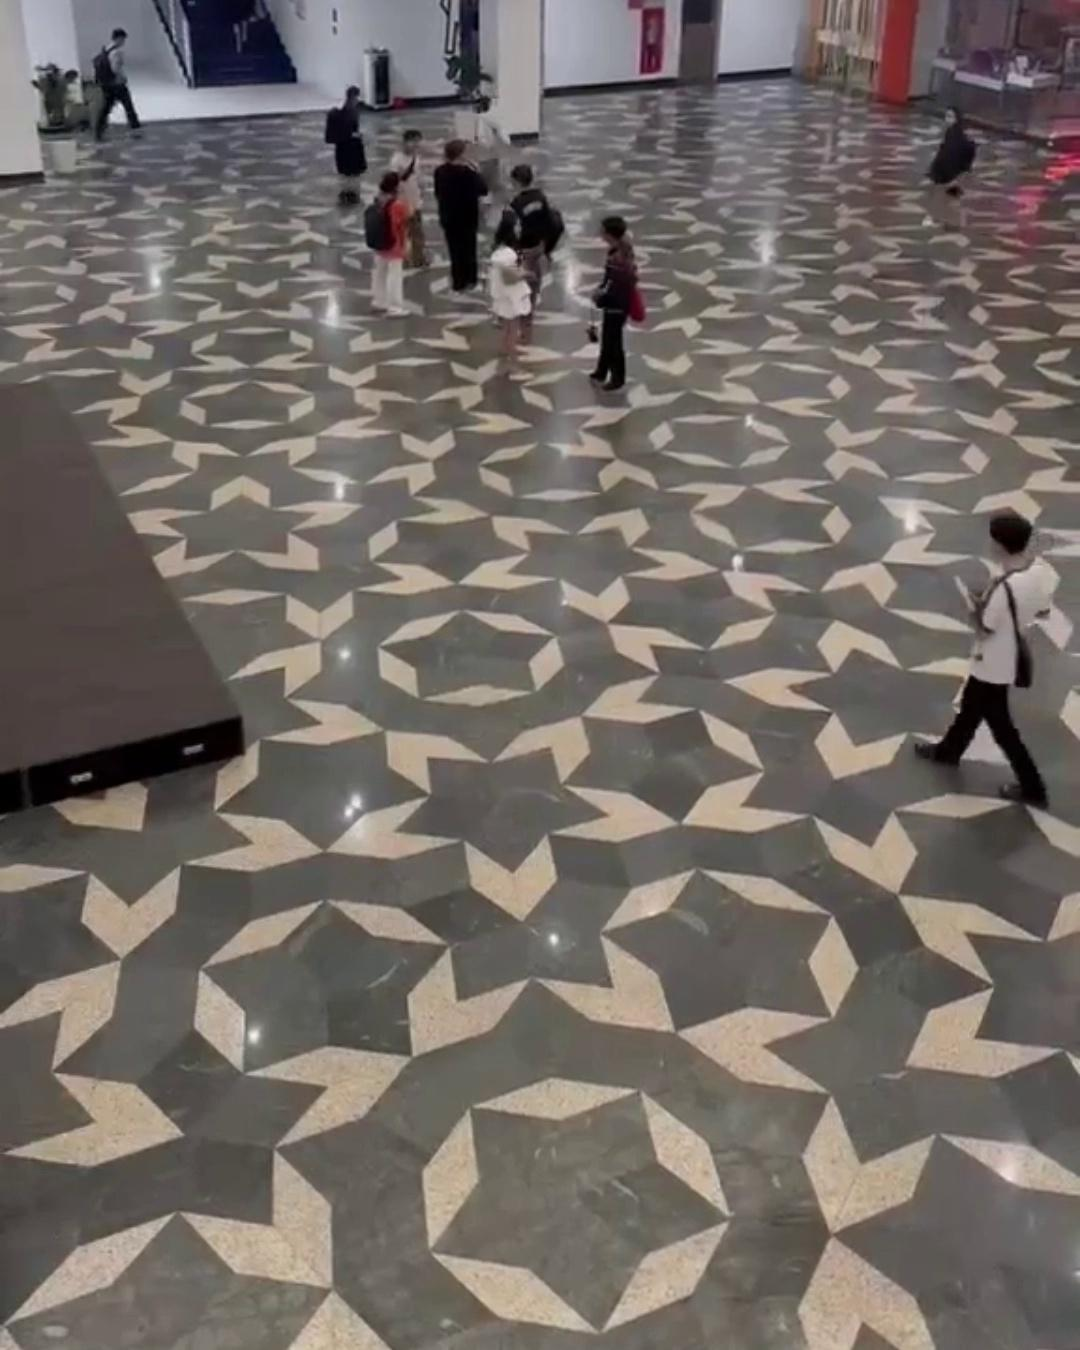your_class: (935, 511, 1049, 812), (584, 216, 646, 393), (506, 164, 562, 327), (431, 140, 487, 291), (361, 171, 412, 318), (487, 214, 534, 357), (924, 105, 978, 229), (388, 130, 430, 269), (94, 28, 142, 143), (324, 86, 366, 207), (471, 96, 509, 192), (220, 0, 260, 54)
